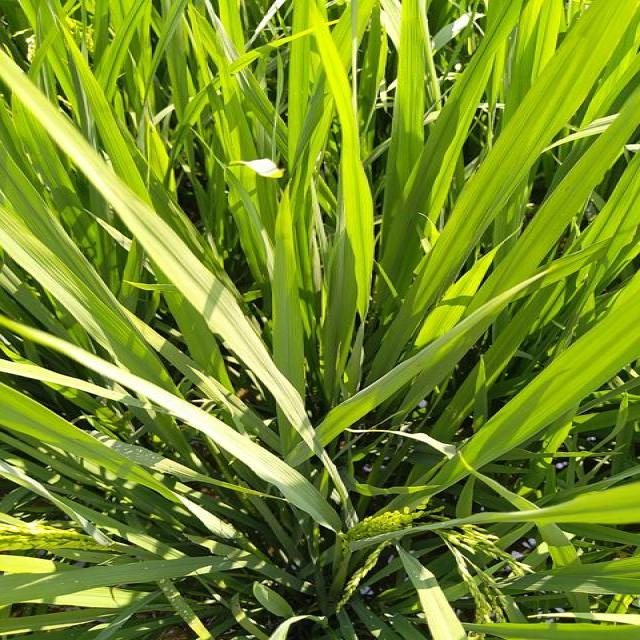Rice: (0, 0, 157, 210), (0, 208, 173, 382), (462, 314, 639, 476), (430, 0, 532, 256), (470, 157, 640, 310), (306, 0, 371, 388), (0, 382, 177, 500), (532, 0, 640, 155), (332, 477, 640, 531), (370, 254, 471, 384), (376, 0, 425, 258), (262, 183, 305, 456), (204, 28, 259, 160), (308, 384, 393, 454), (547, 534, 592, 608)
